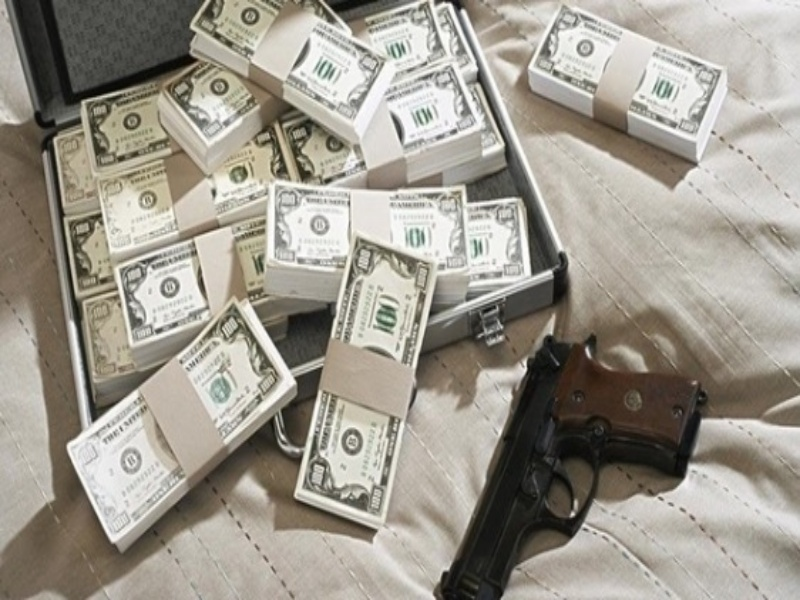cash: (50, 1, 531, 554), (529, 4, 726, 166)
weapon: (440, 333, 707, 600)
